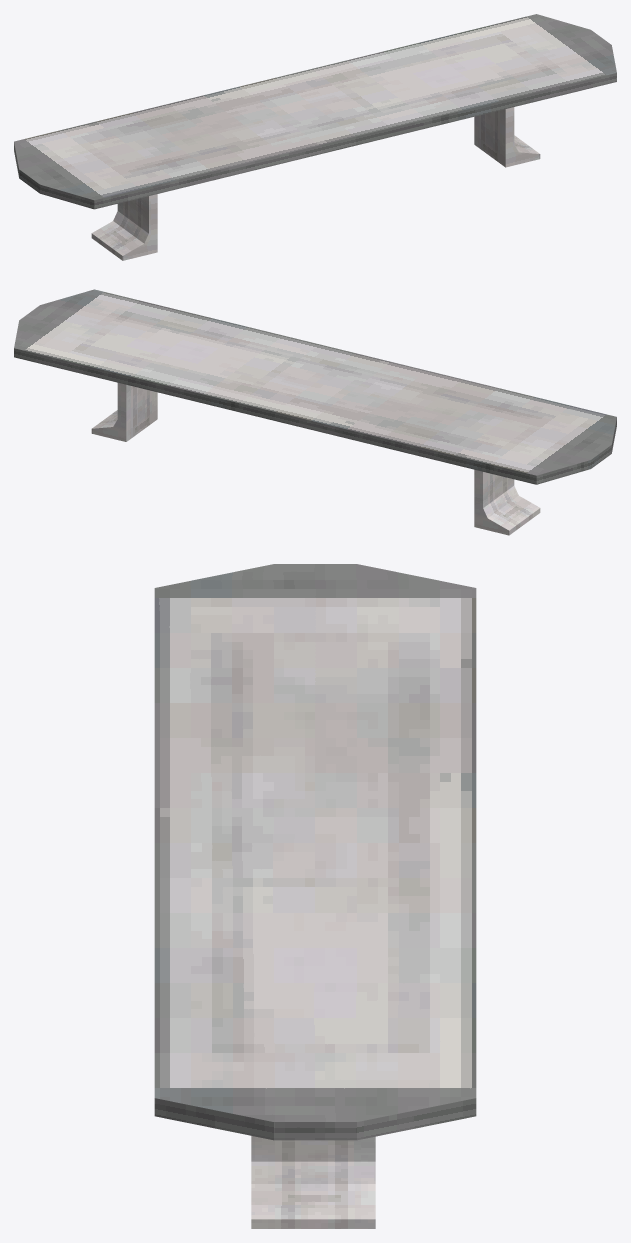
Rendered from frn_all_mdrn_dining_table_s01_l2.fbx.
The picture shows the model from 3 angles, top to bottom: view 1: azimuth 30°, elevation 25°; view 2: azimuth 150°, elevation 25°; view 3: azimuth 270°, elevation 25°; orthographic projection. The views are drawn at different scales.
Parts seen in each view (by area): view 1: mesh_node; view 2: mesh_node; view 3: mesh_node.
Boxes of the visible parts, bbox=[...] form: mesh_node: bbox=[14, 14, 616, 260]; mesh_node: bbox=[14, 289, 616, 535]; mesh_node: bbox=[154, 564, 476, 1228].
Size of the model in its own units: 6.57 by 1 by 1.6.
Materials: 1 (1 with a texture image).
